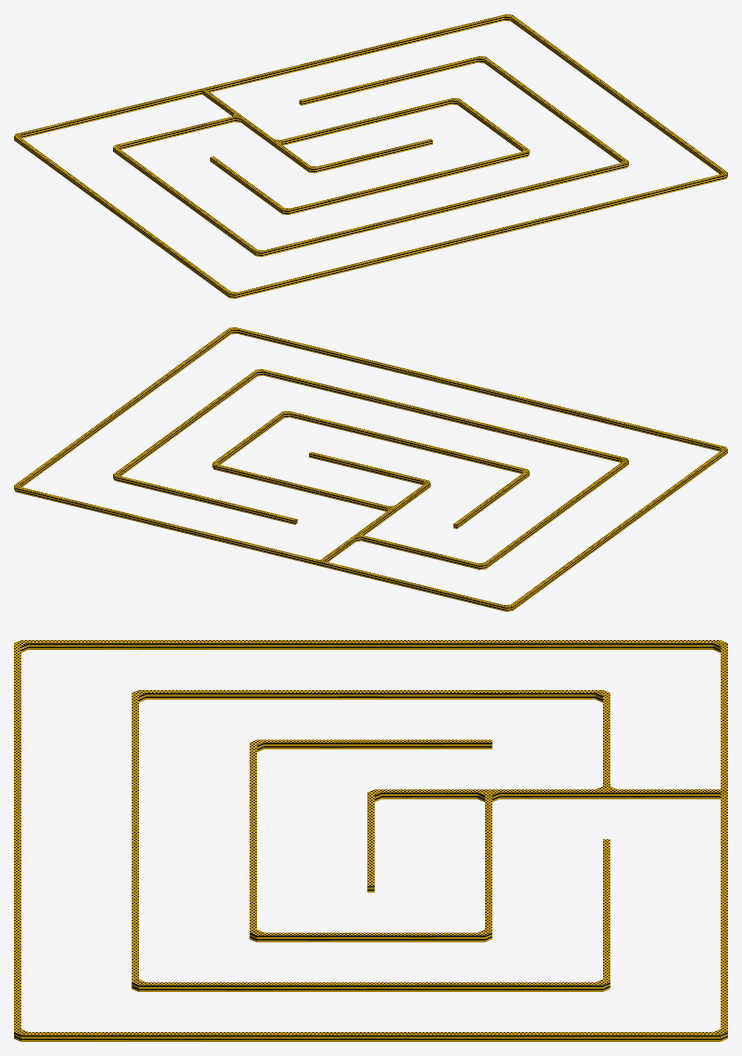
Rendered from Sprint Track M.fbx.
3 renders of one model, top to bottom at view 1: azimuth 30°, elevation 25°; view 2: azimuth 150°, elevation 25°; view 3: azimuth 270°, elevation 25°, orthographic. The views are drawn at different scales.
Parts seen in each view (by area): view 1: Sprint_Track_M; view 2: Sprint_Track_M; view 3: Sprint_Track_M.
Boxes of the visible parts, x1,y1,x2,y2 form: Sprint_Track_M: (14, 14, 727, 298); Sprint_Track_M: (14, 327, 727, 611); Sprint_Track_M: (14, 640, 727, 1041).
Bounding box in the file's own units: 12700 × 100 × 9700.
